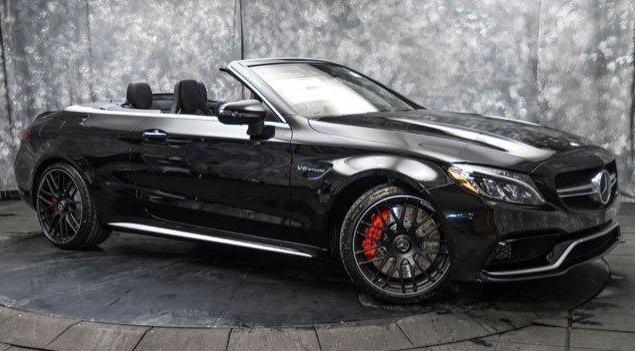C63AMG: (11, 53, 624, 303)
